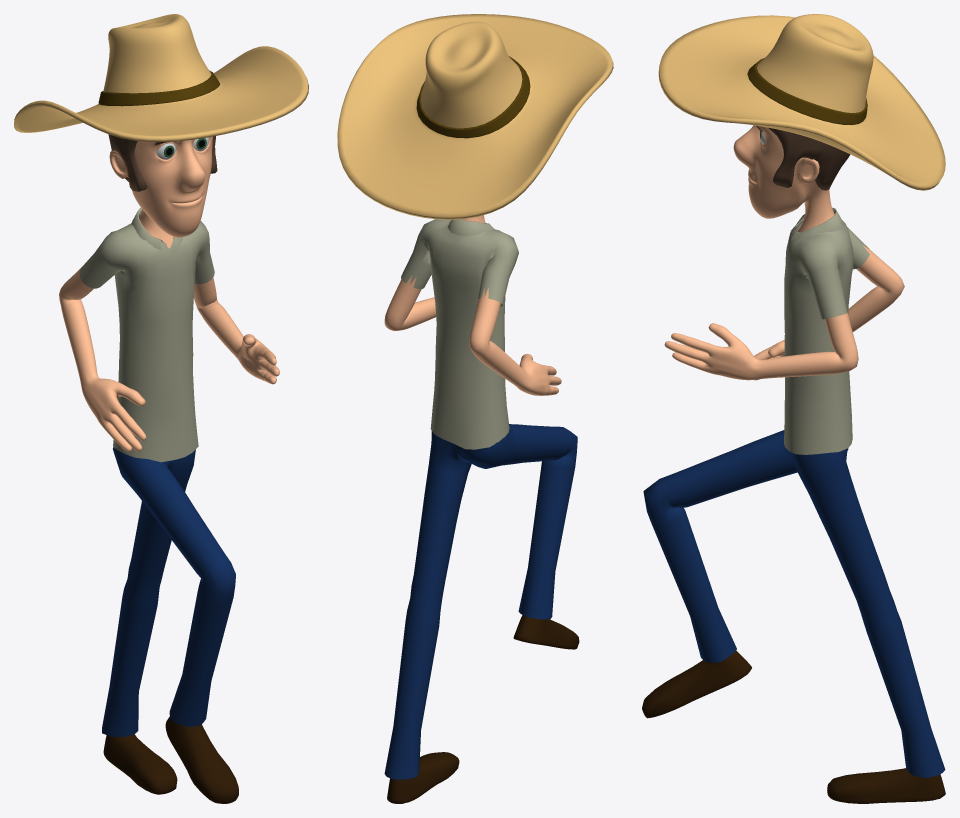
File: GuyRun11.obj
The picture shows the model from 3 angles, left to right: view 1: azimuth 30°, elevation 25°; view 2: azimuth 150°, elevation 25°; view 3: azimuth 270°, elevation 25°; orthographic projection. The views are drawn at different scales.
Size of the model in its own units: 2.18 by 7.16 by 2.57.
